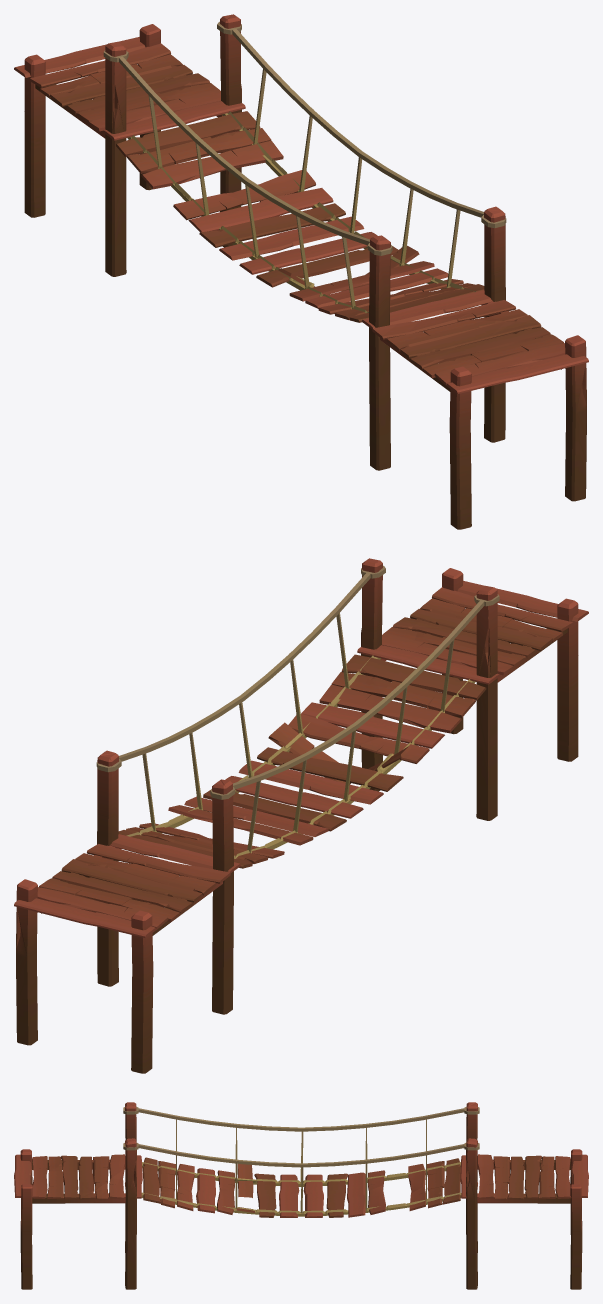
3 views of the same model, one above another, from view 1: azimuth 30°, elevation 25°; view 2: azimuth 150°, elevation 25°; view 3: azimuth 270°, elevation 25° (orthographic). The views are drawn at different scales.
Parts seen in each view (by area): view 1: HangingBridge; view 2: HangingBridge; view 3: HangingBridge.
Part boxes in pixels (x1=…): HangingBridge: x1=14, y1=14, x2=588, y2=529; HangingBridge: x1=14, y1=558, x2=588, y2=1073; HangingBridge: x1=14, y1=1102, x2=588, y2=1289.
Size of the model in its own units: 2.38 by 3.84 by 13.57.
1 material, 1 textured.
